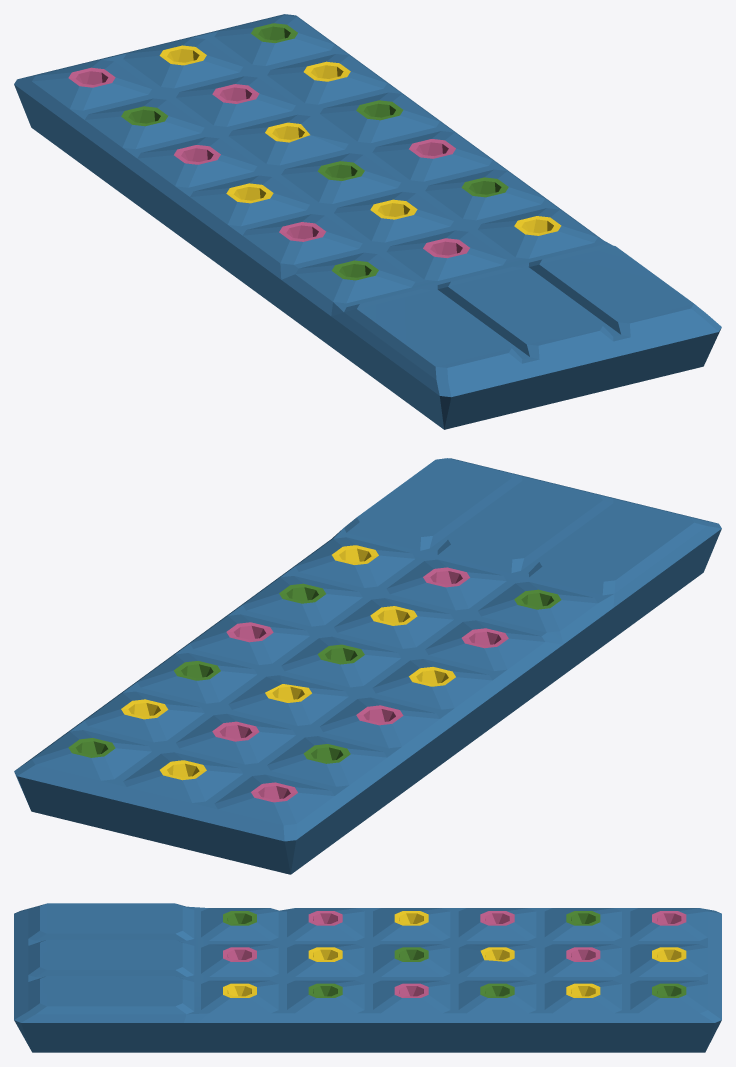
The model's file is beach_mat-inflatable-b.fbx.
The picture shows the model from 3 angles, top to bottom: view 1: azimuth 30°, elevation 25°; view 2: azimuth 150°, elevation 25°; view 3: azimuth 270°, elevation 25°; orthographic projection. The views are drawn at different scales.
Visible parts, largest first — view 1: beach_mat_inflatable_b; view 2: beach_mat_inflatable_b; view 3: beach_mat_inflatable_b.
Part boxes in pixels (x1=…): beach_mat_inflatable_b: x1=14, y1=14, x2=721, y2=429; beach_mat_inflatable_b: x1=14, y1=458, x2=721, y2=874; beach_mat_inflatable_b: x1=14, y1=903, x2=721, y2=1052.
Bounding box in the file's own units: 75.05 × 14.43 × 200.
